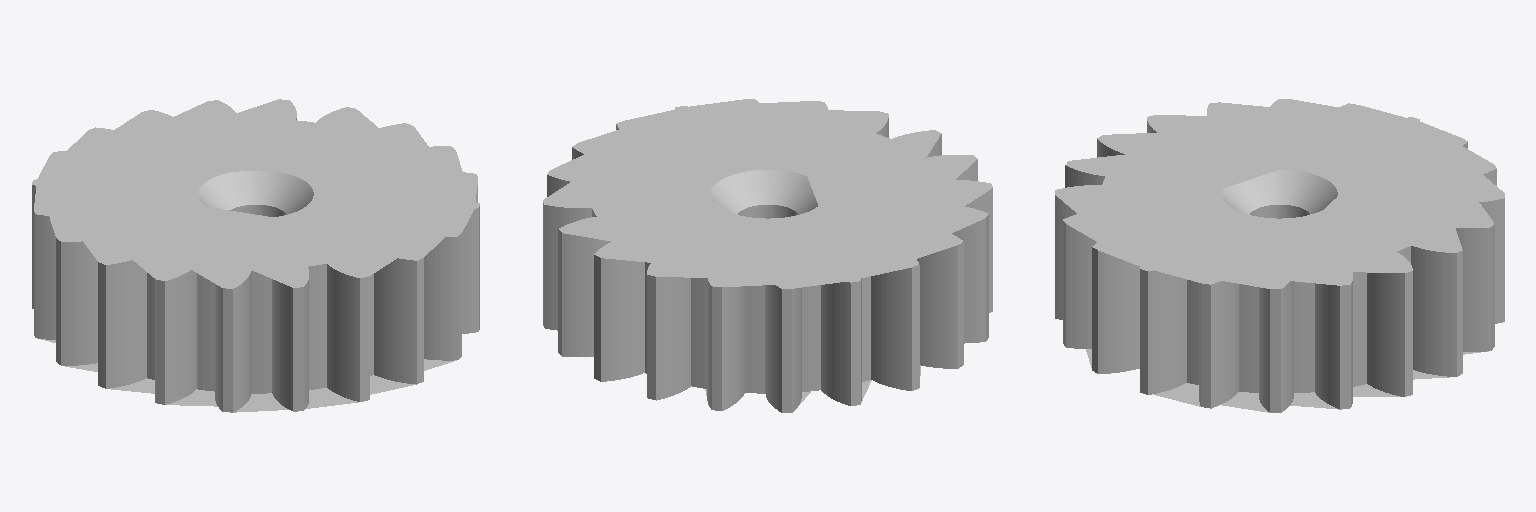
File: Prints_gear.obj
3 views of the same model, side by side, from view 1: azimuth 30°, elevation 25°; view 2: azimuth 150°, elevation 25°; view 3: azimuth 270°, elevation 25° (orthographic).
Parts seen in each view (by area): view 1: gear; view 2: gear; view 3: gear.
Boxes of the visible parts, x1,y1,x2,y2 form: gear: [32, 99, 479, 412]; gear: [543, 99, 992, 412]; gear: [1055, 99, 1504, 412].
Bounding box in the file's own units: 0.0172 × 0.0052 × 0.0172.